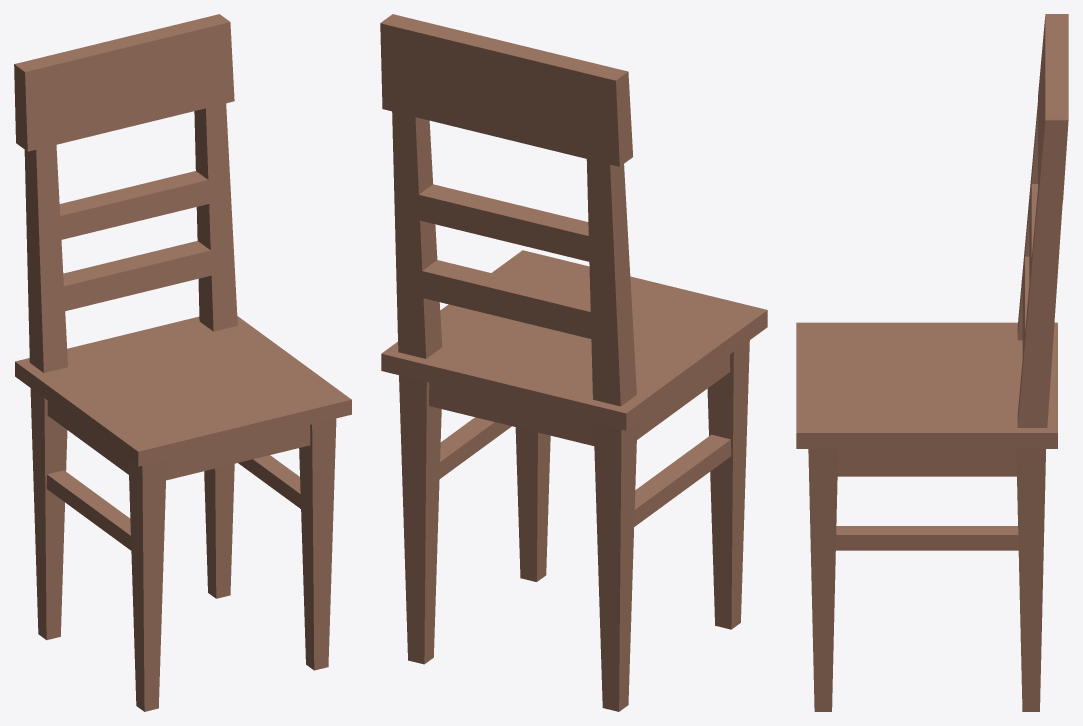
The model's file is stuhl.glb.
3 renders of one model, left to right at view 1: azimuth 30°, elevation 25°; view 2: azimuth 150°, elevation 25°; view 3: azimuth 270°, elevation 25°, orthographic. The views are drawn at different scales.
Visible parts, largest first — view 1: Cube; view 2: Cube; view 3: Cube.
Boxes of the visible parts, bbox=[...] form: Cube: bbox=[14, 14, 351, 711]; Cube: bbox=[380, 14, 767, 711]; Cube: bbox=[796, 14, 1068, 711].
Size of the model in its own units: 0.5075 by 1.28 by 0.5278.
